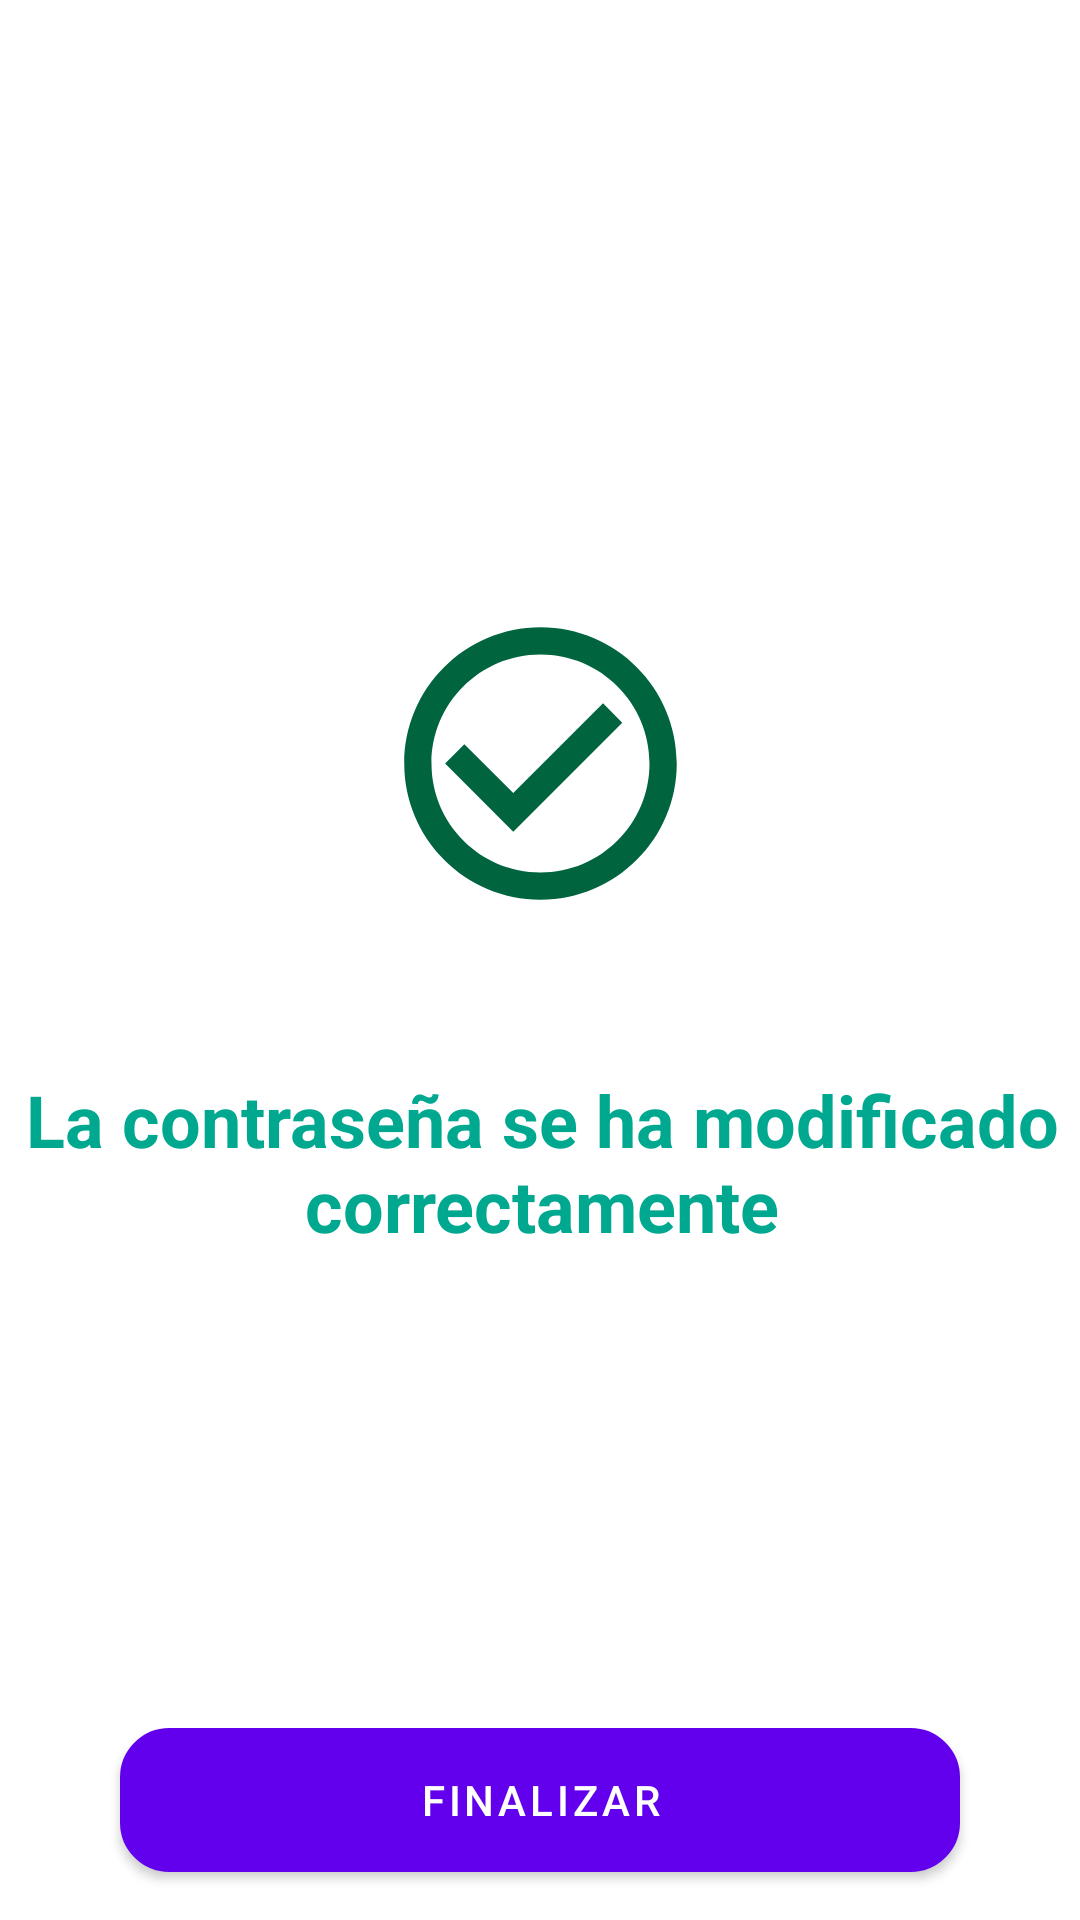

Locate icon controls on the screen. Image size 1080px×1920px, boxes as (x1, y1, x2, y2).
check: (404, 627, 677, 900)
